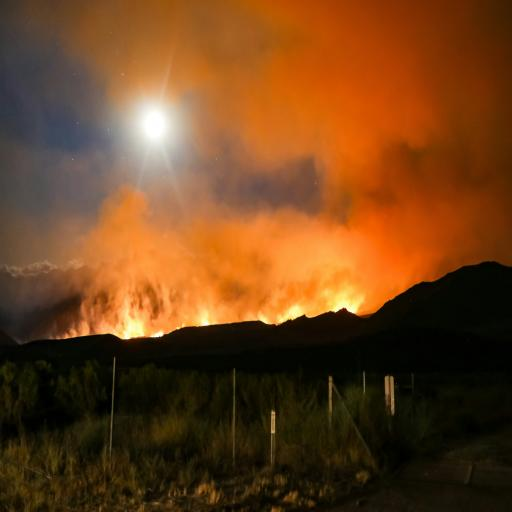wildfire: (1, 155, 512, 366)
